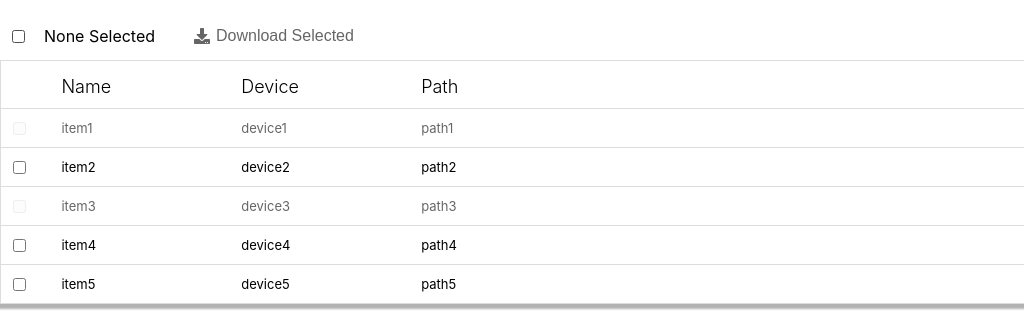
Scenario: DownloadManager component requirements › selectAllCheckboxText should reflect the accurate count of selected items
# attempt to check just two rows
Click the button "item2 device2 path2 Available": (79, 167) [0, 148, 1023, 186]
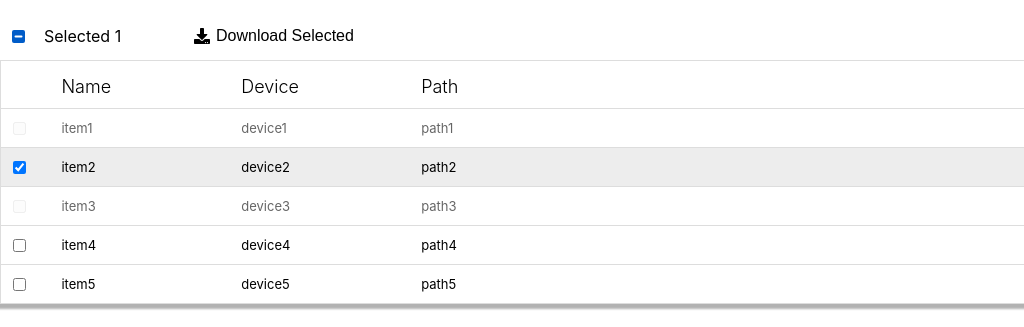
Click the button "item5 device5 path5 Available": (78, 284) [0, 264, 1023, 304]
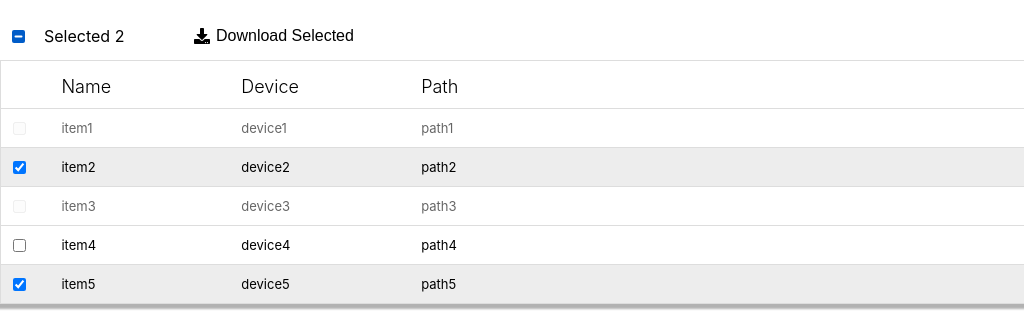
Now the text with test id "selectAllCheckboxText" reads "Selected 2", box [44, 26, 124, 46]
